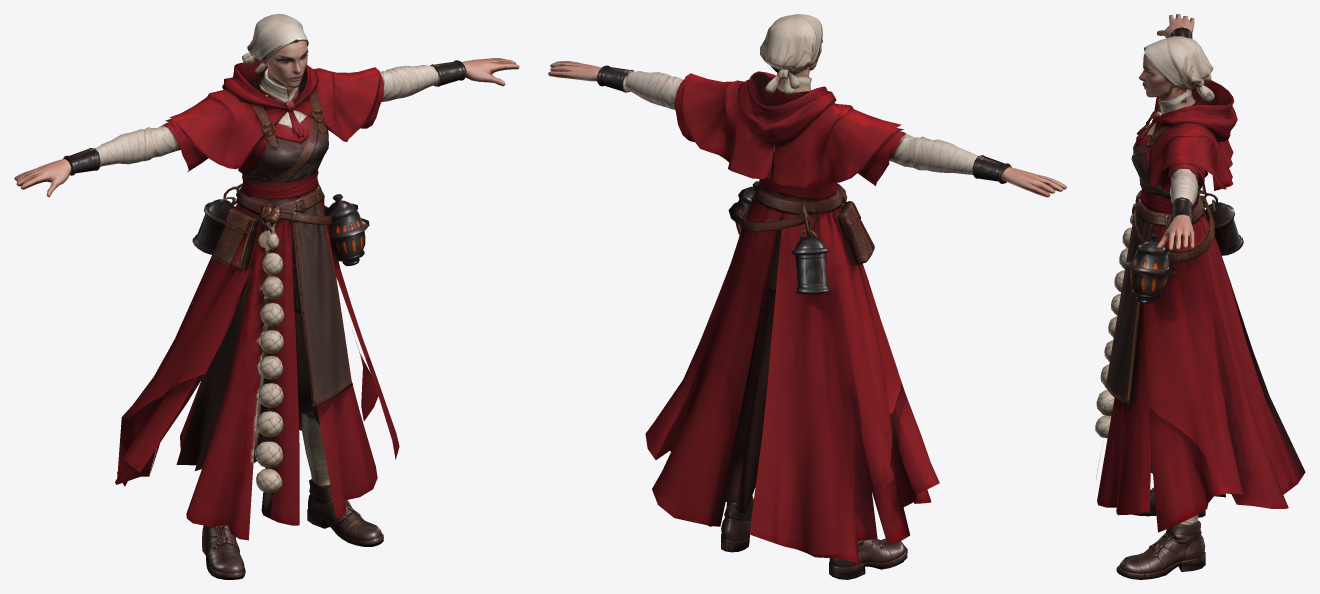
Rendered from FL_flagellant_vA.glb.
3 views of the same model, side by side, from view 1: azimuth 30°, elevation 25°; view 2: azimuth 150°, elevation 25°; view 3: azimuth 270°, elevation 25° (orthographic). The views are drawn at different scales.
Parts seen in each view (by area): view 1: tripo_8997b4a6_3c65_445e_a06c_13247c4b5ef4; view 2: tripo_8997b4a6_3c65_445e_a06c_13247c4b5ef4; view 3: tripo_8997b4a6_3c65_445e_a06c_13247c4b5ef4.
Boxes of the visible parts, x1,y1,x2,y2 form: tripo_8997b4a6_3c65_445e_a06c_13247c4b5ef4: (14,14,519,579); tripo_8997b4a6_3c65_445e_a06c_13247c4b5ef4: (548,14,1066,579); tripo_8997b4a6_3c65_445e_a06c_13247c4b5ef4: (1095,14,1305,579).
Bounding box in the file's own units: 0.9985 × 0.9995 × 0.3784.
Materials: 1 (1 with a texture image).
